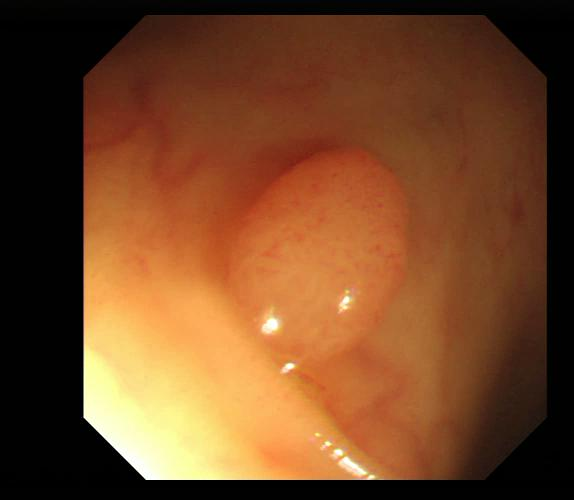polyp: (227, 143, 409, 374)
